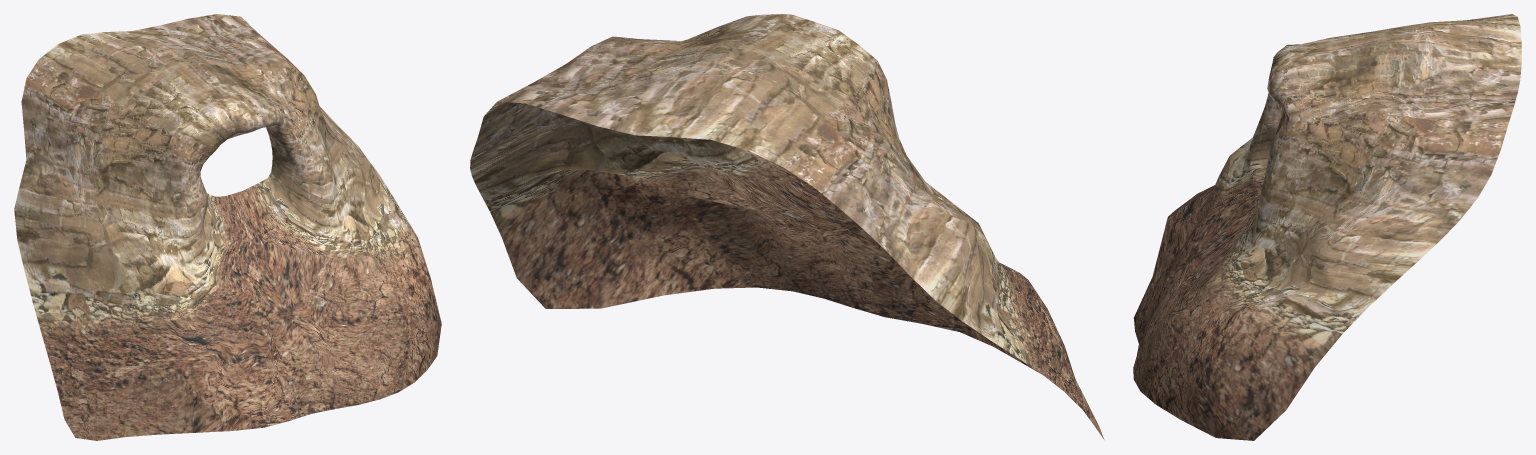
The model's file is thm_tato_cave_s02_r0_mesh_l1.fbx.
The picture shows the model from 3 angles, left to right: view 1: azimuth 30°, elevation 25°; view 2: azimuth 150°, elevation 25°; view 3: azimuth 270°, elevation 25°; orthographic projection. The views are drawn at different scales.
Parts seen in each view (by area): view 1: mesh_node; view 2: mesh_node; view 3: mesh_node.
Part boxes in pixels (x1=…): mesh_node: x1=14, y1=14, x2=441, y2=440; mesh_node: x1=470, y1=14, x2=1104, y2=439; mesh_node: x1=1133, y1=14, x2=1521, y2=440.
Size of the model in its own units: 48.97 by 34.18 by 39.36.
